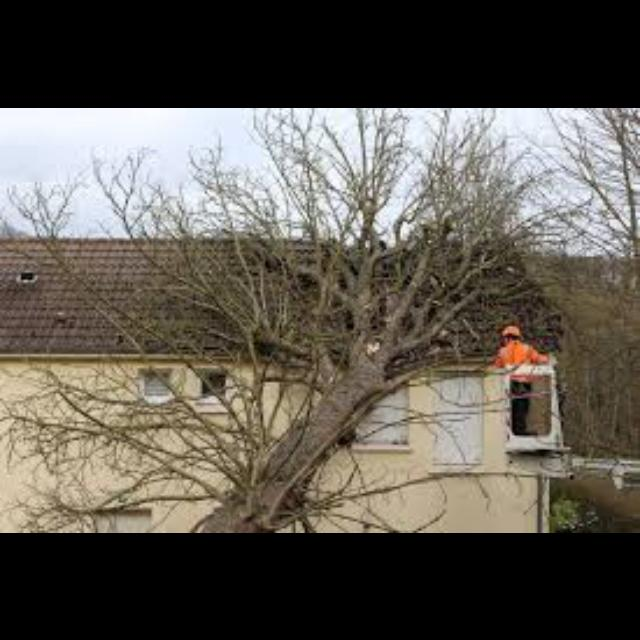Fallen Tree: (182, 348, 394, 532)
